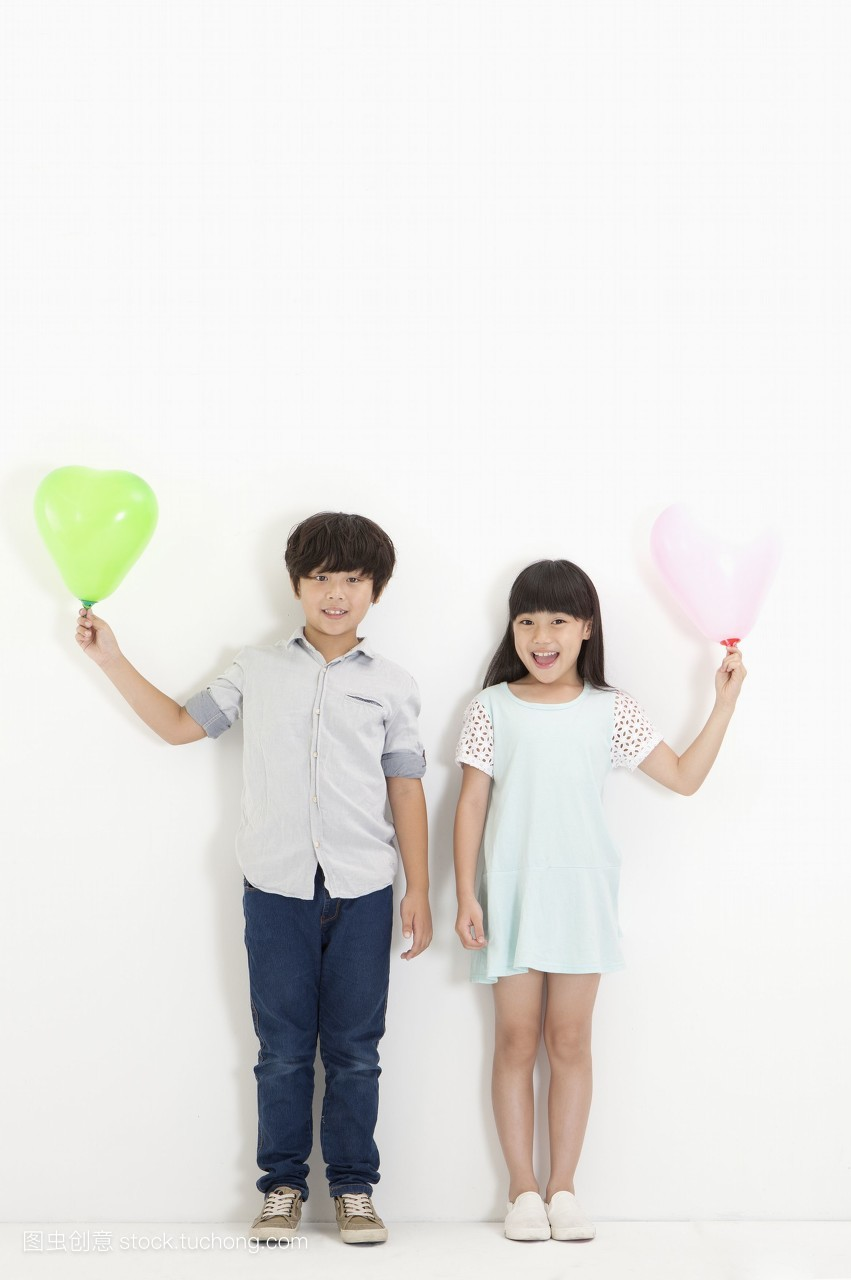handsup: (50, 437, 450, 1280), (432, 486, 763, 1263)
